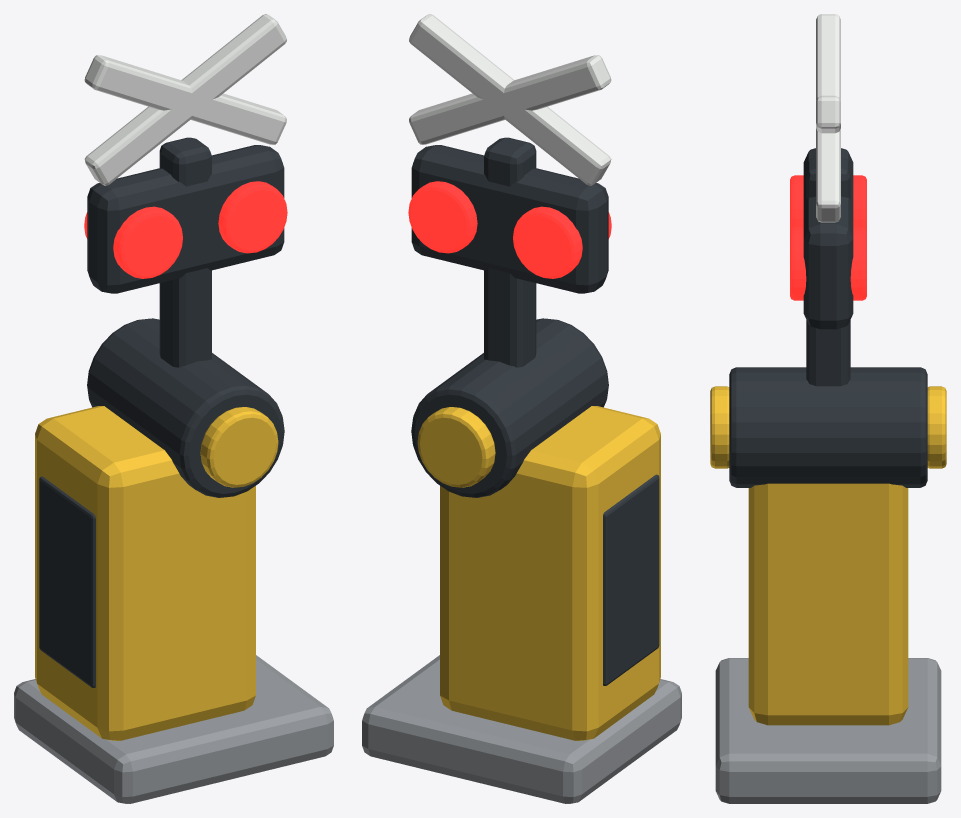
The model's file is SM_SolCity_LevelCrossingBarrierBase_01.fbx.
The picture shows the model from 3 angles, left to right: view 1: azimuth 30°, elevation 25°; view 2: azimuth 150°, elevation 25°; view 3: azimuth 270°, elevation 25°; orthographic projection.
Parts seen in each view (by area): view 1: SM_SolCity_LevelCrossingBarrierBase_01; view 2: SM_SolCity_LevelCrossingBarrierBase_01; view 3: SM_SolCity_LevelCrossingBarrierBase_01.
Boxes of the visible parts, box(x1,y1,x2,y2) form: SM_SolCity_LevelCrossingBarrierBase_01: box(14, 14, 333, 803); SM_SolCity_LevelCrossingBarrierBase_01: box(362, 14, 681, 803); SM_SolCity_LevelCrossingBarrierBase_01: box(710, 14, 946, 803).
Size of the model in its own units: 0.9235 by 0.86 by 2.83.
